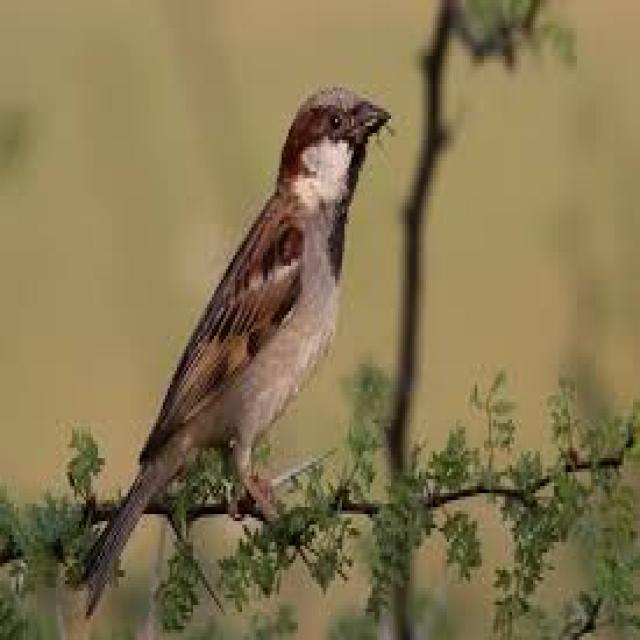bird: (62, 82, 400, 620)
